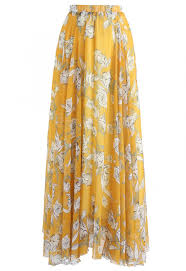C_skirt: (28, 2, 161, 268)
